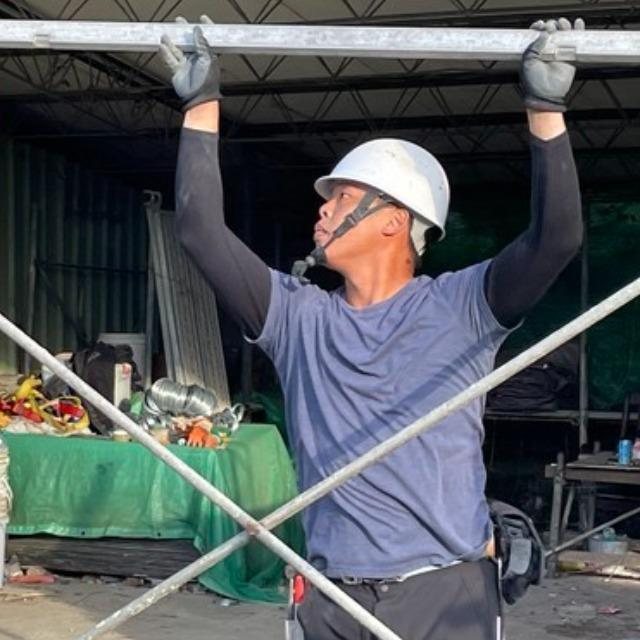Helmet: (304, 135, 452, 271)
NoVest: (287, 261, 496, 578)
